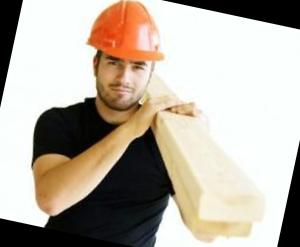helmet: (80, 0, 180, 67)
no_vest: (14, 80, 197, 246)
person: (16, 0, 232, 247)
